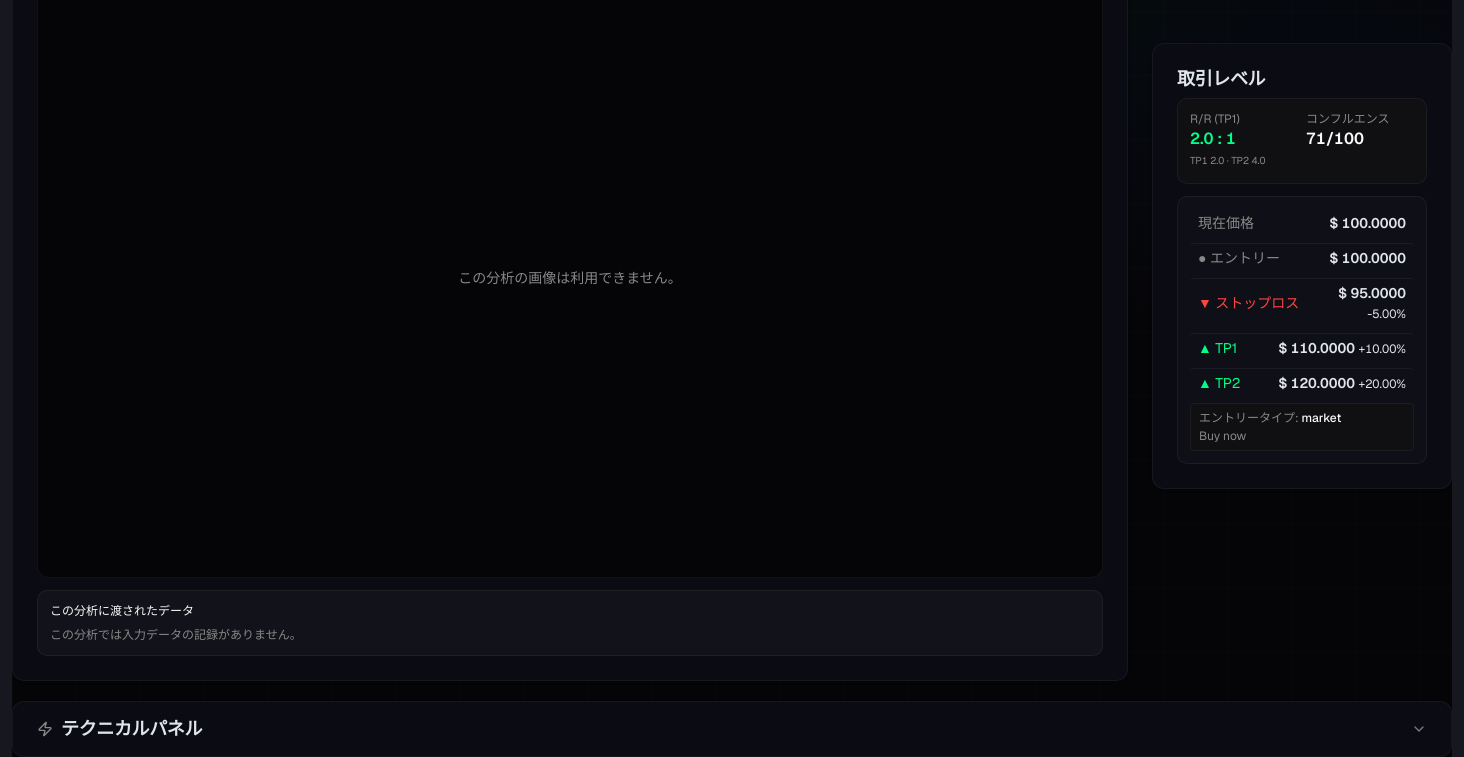
C1 technical evidence caution presentation › keeps caution distinct from failure in ja
(page scrolled)
Click the button "テクニカルパネル" at (132, 729), box left=13, top=702, right=1451, bottom=756
(page scrolled)
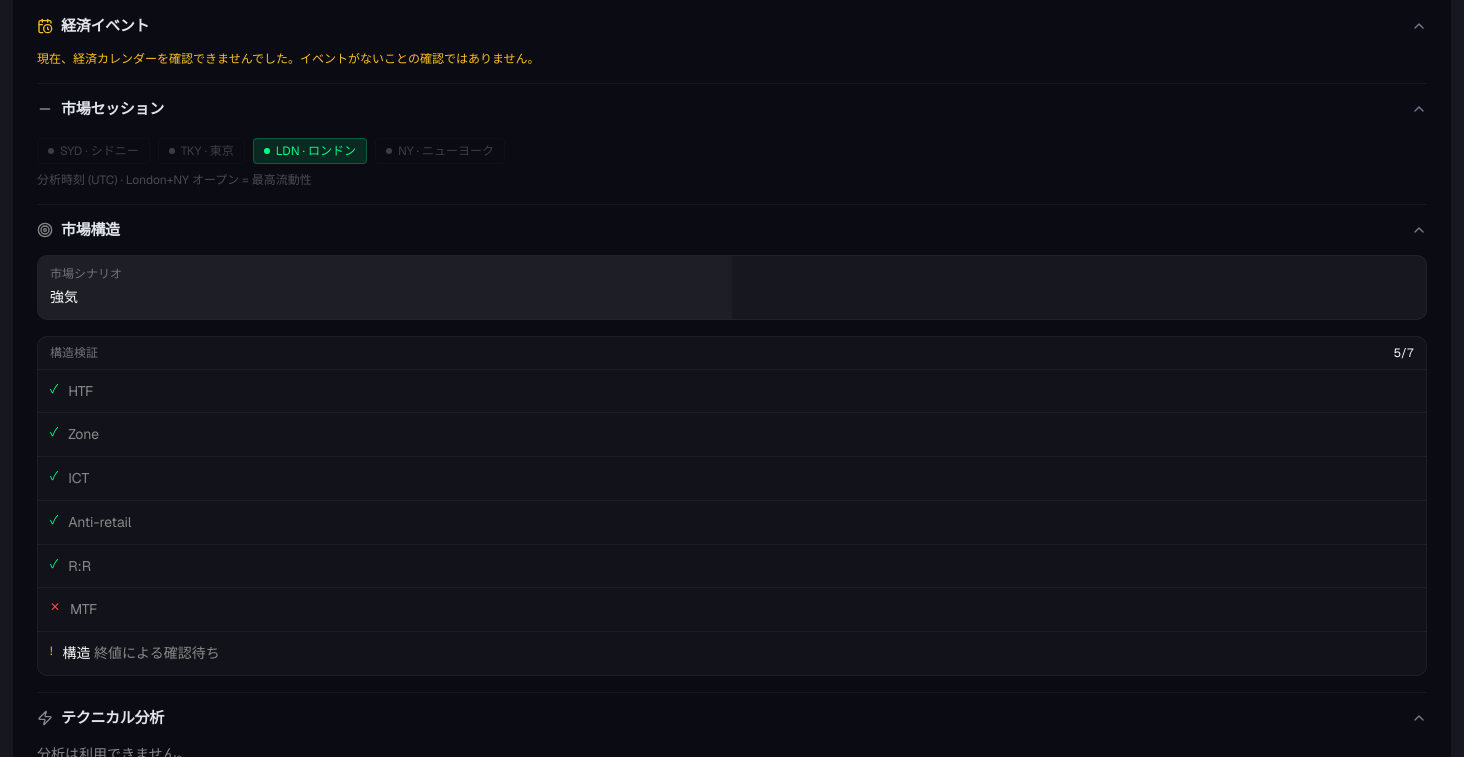
Check: the text "!" is shown, box left=50, top=643, right=53, bottom=659
Check: the text "5/7" is shown, box left=1394, top=345, right=1414, bottom=361
